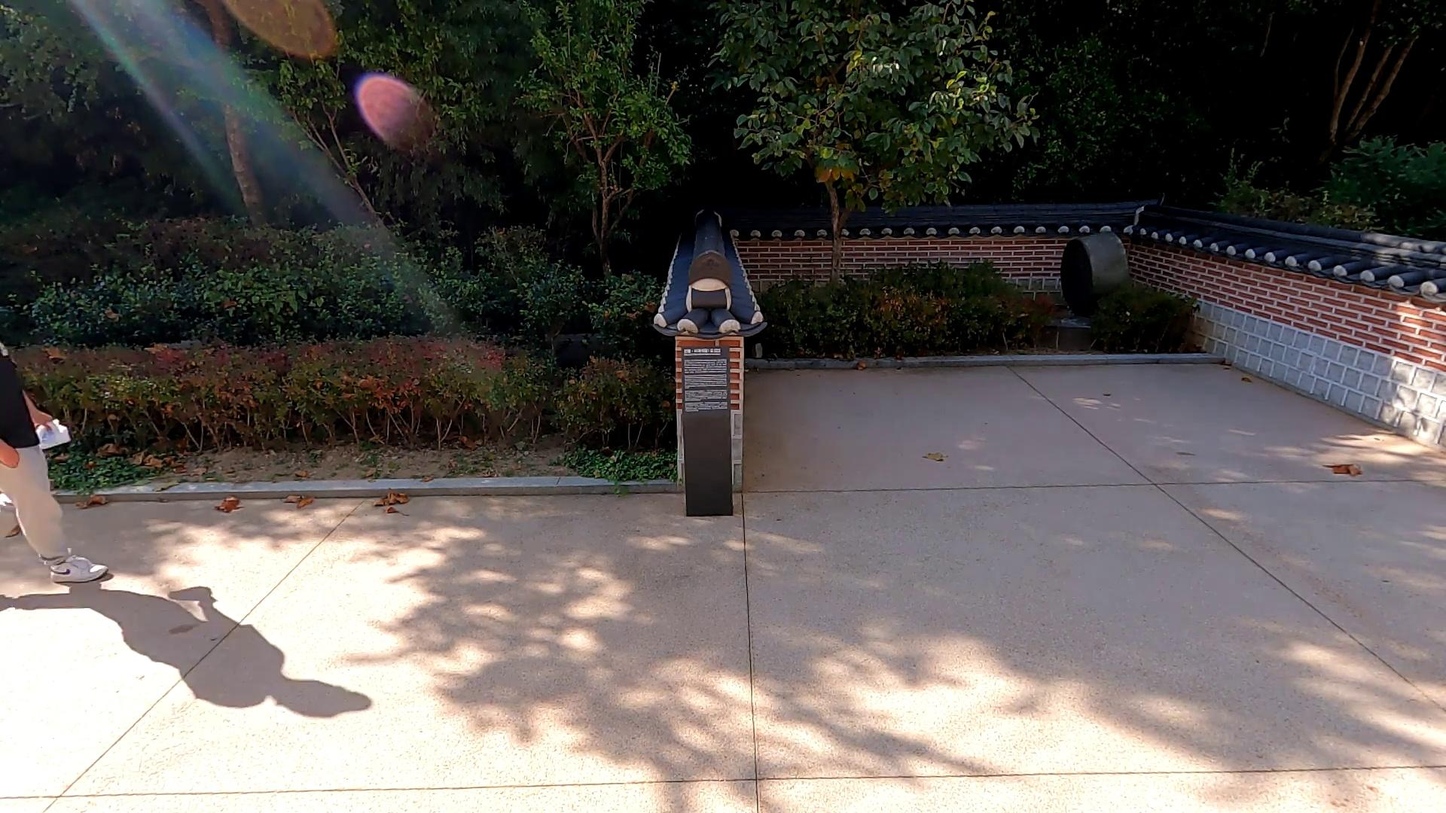person: (0, 331, 114, 597)
trash: (28, 417, 79, 455)
